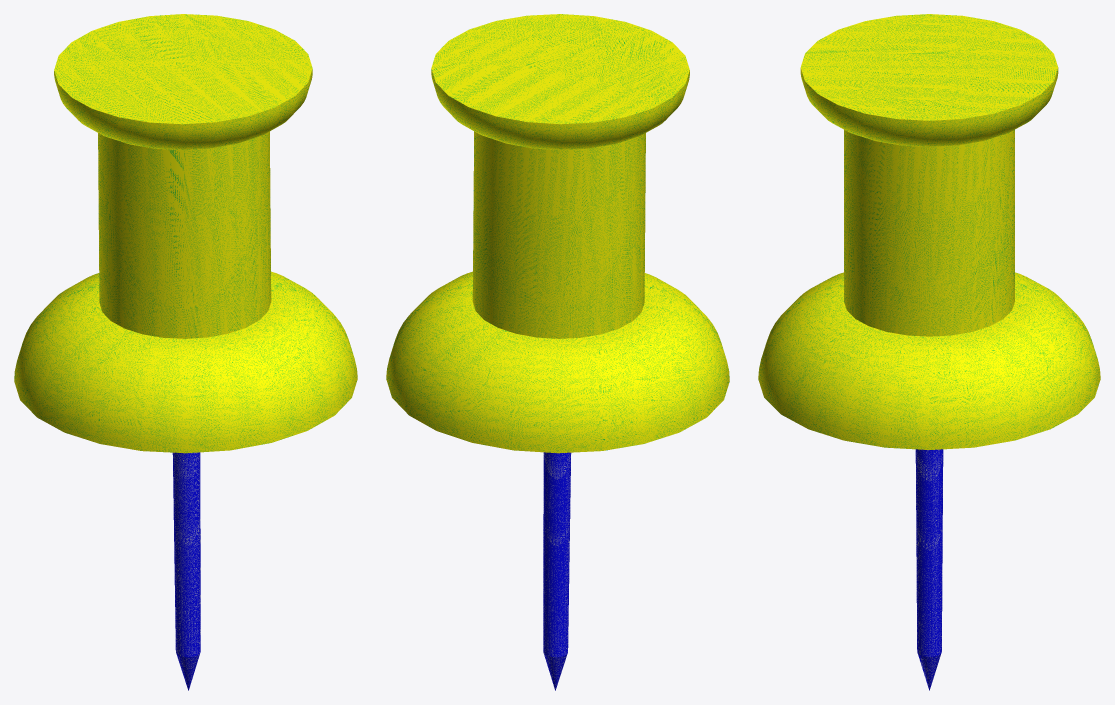
File: pushPinGreen.dae
The picture shows the model from 3 angles, left to right: view 1: azimuth 30°, elevation 25°; view 2: azimuth 150°, elevation 25°; view 3: azimuth 270°, elevation 25°; orthographic projection.
Visible parts, largest first — view 1: SketchUp (×2); view 2: SketchUp (×2); view 3: SketchUp (×2).
Boxes of the visible parts, <box> form: SketchUp (×2): <box>14,14,357,690</box>; SketchUp (×2): <box>386,14,729,690</box>; SketchUp (×2): <box>758,14,1100,690</box>.
Size of the model in its own units: 24 by 24 by 48.09.
